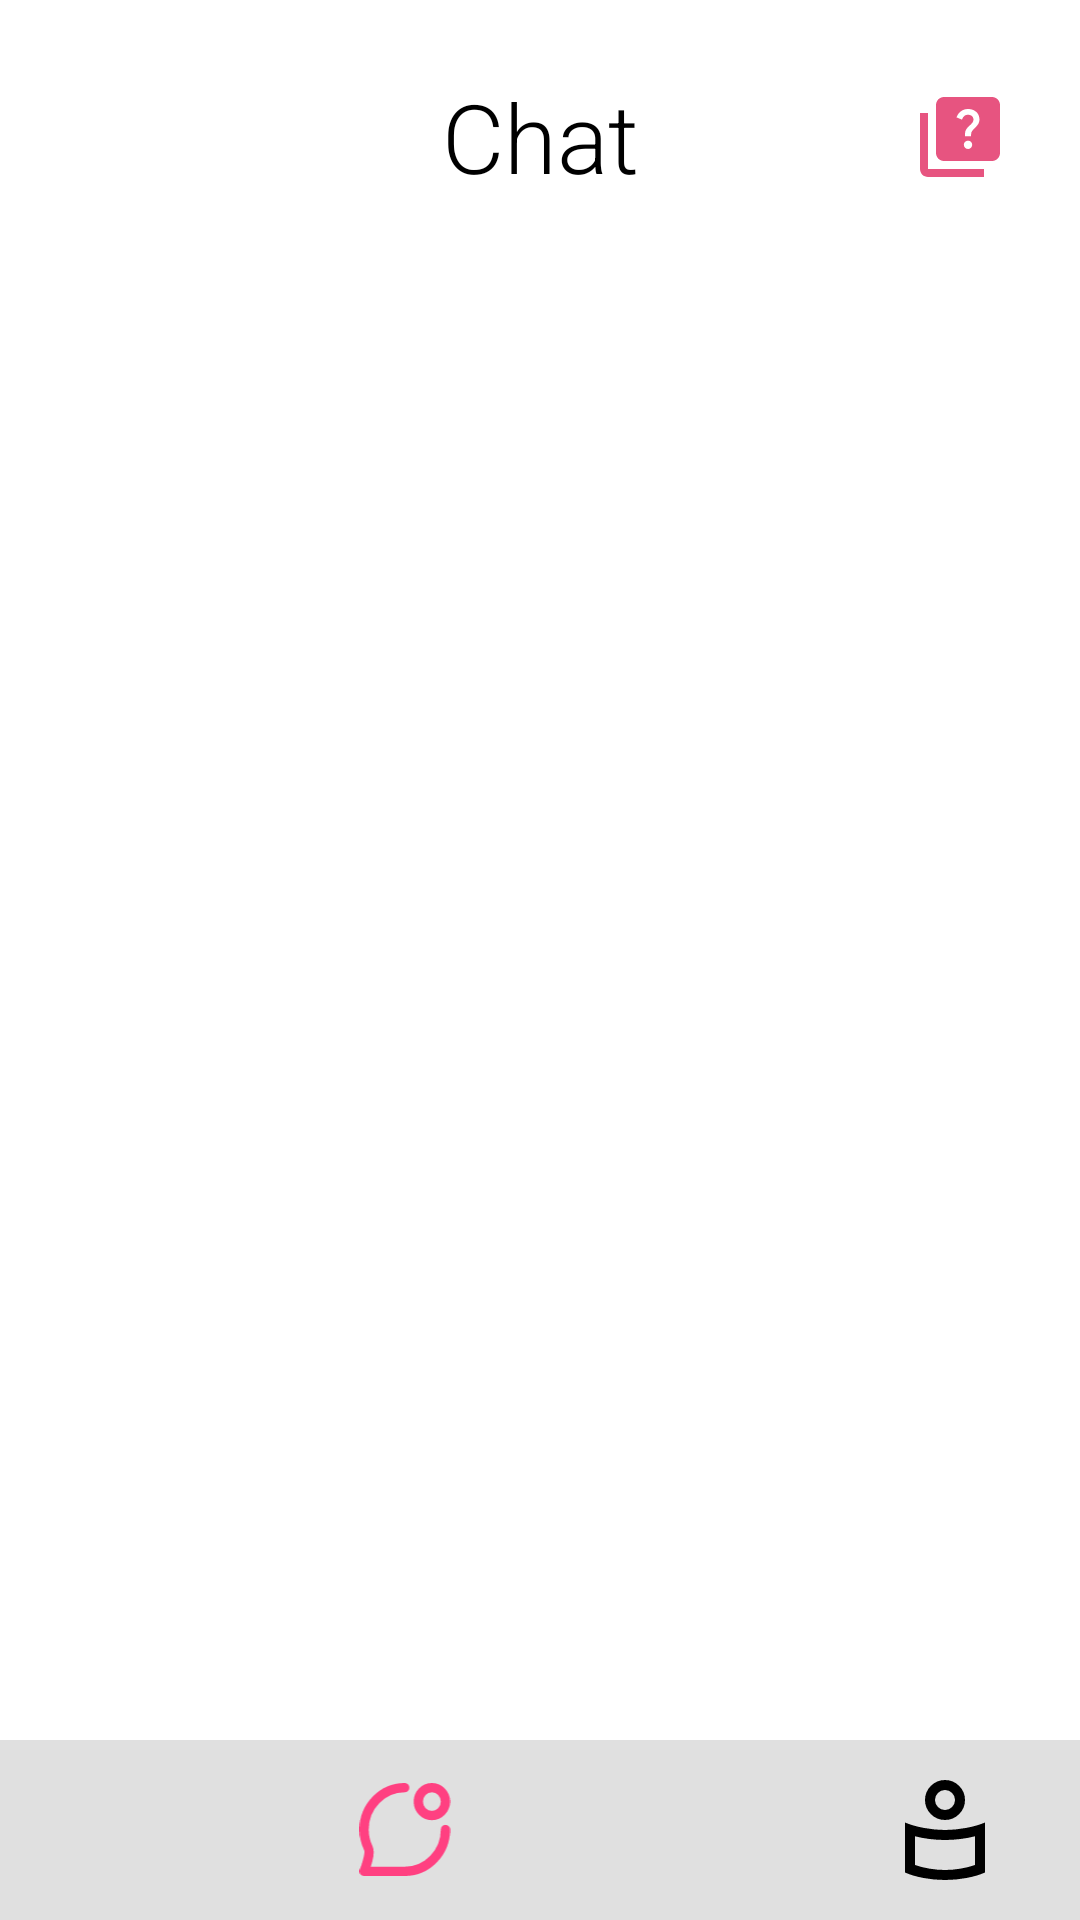

Where icons sit on this 1080px x 1920px app screen, as (x1, y1, x2, y2):
chat nav: (359, 1783, 451, 1876)
profile nav: (905, 1780, 985, 1880)
quiz: (920, 97, 1000, 177)
